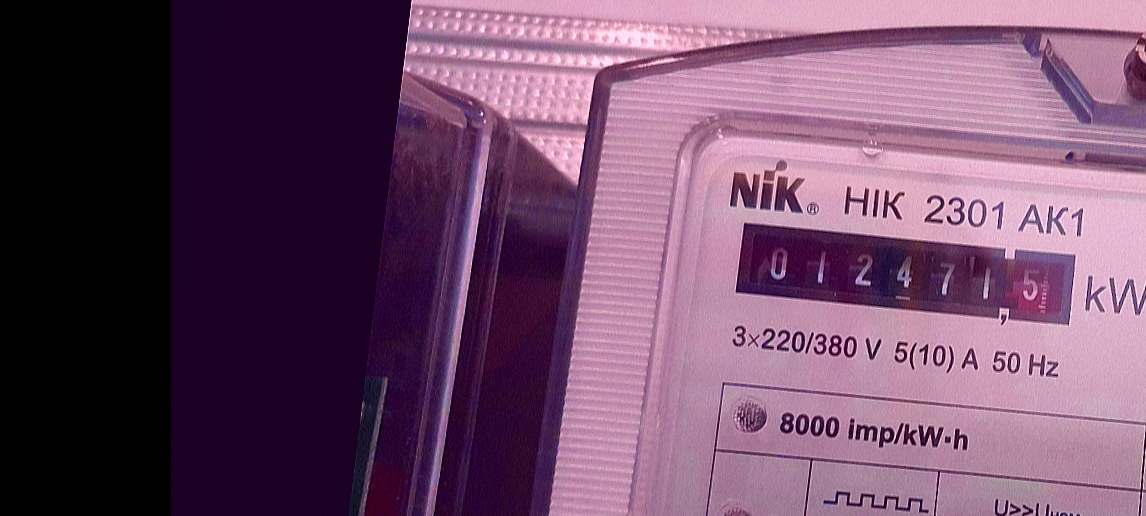0: (764, 244, 792, 283)
1: (813, 250, 829, 286), (978, 265, 993, 302)
2: (852, 251, 877, 290)
4: (893, 253, 916, 292)
5: (1018, 265, 1043, 305)
7: (932, 259, 957, 300)
screen: (723, 205, 1090, 345)
